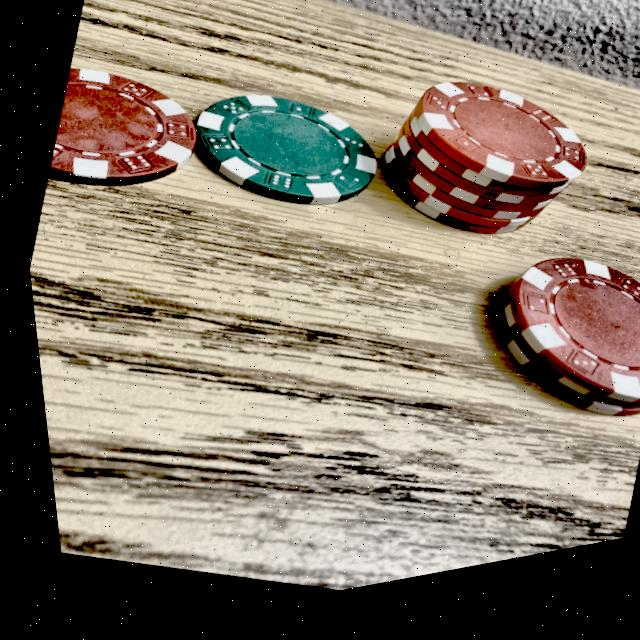Chip: (331, 29, 627, 318), (428, 213, 640, 486), (148, 46, 405, 255), (29, 44, 222, 239)
